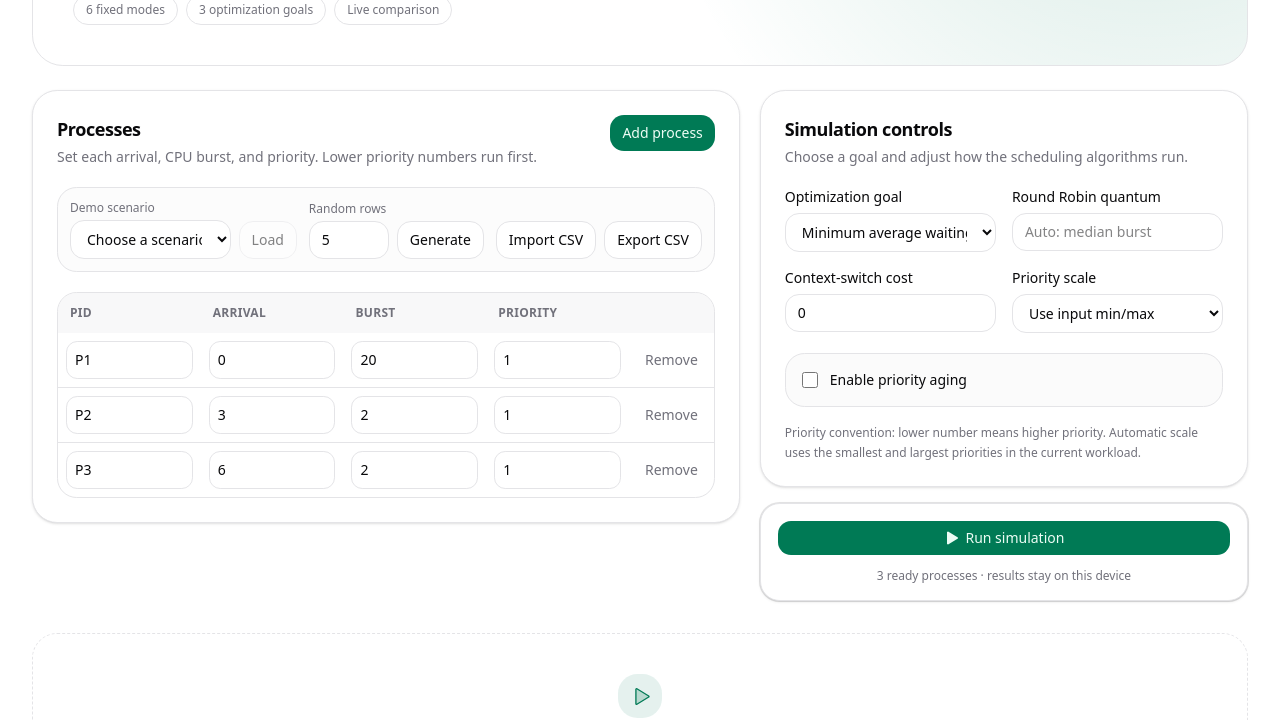
Test: simulator workflow › accepts manual process edits and runs the comparison
(page scrolled)
Replace the text in the number field named "Burst for row 1" with "10" at [415, 360], box [351,341,478,379]
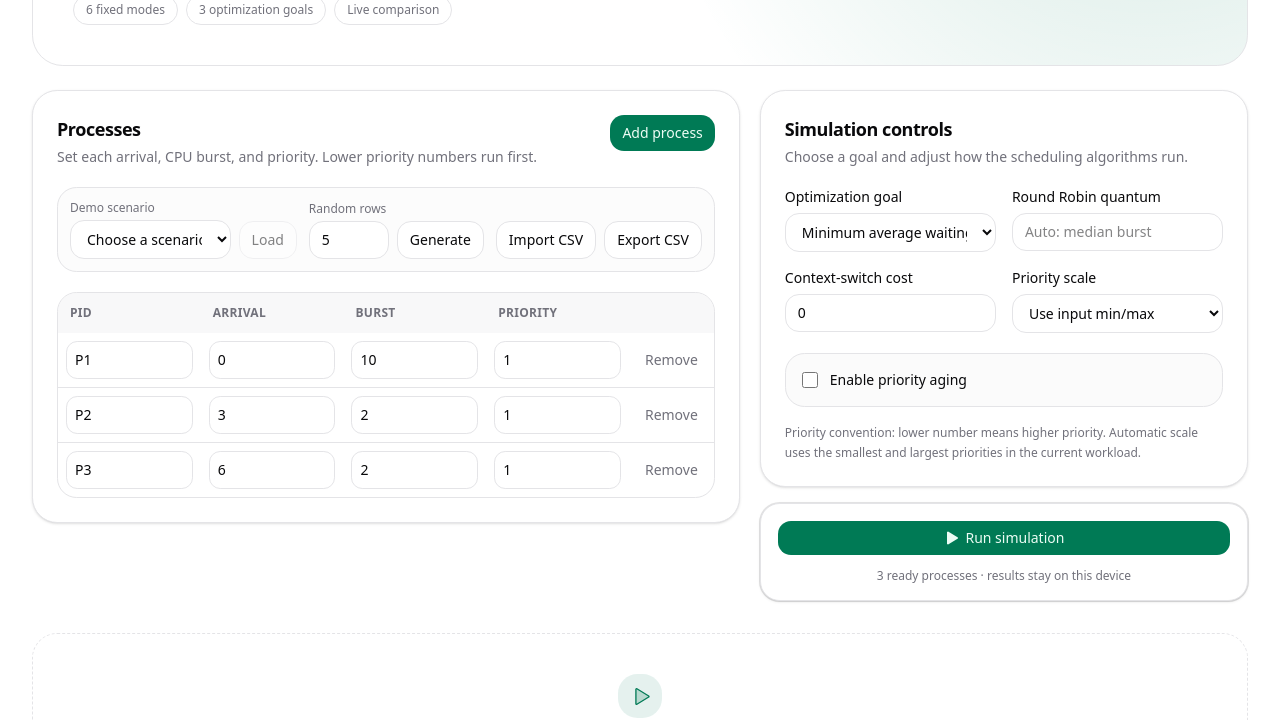
Replace the text in the number field named "Arrival for row 2" with "0" at [272, 415], box [209,396,335,434]
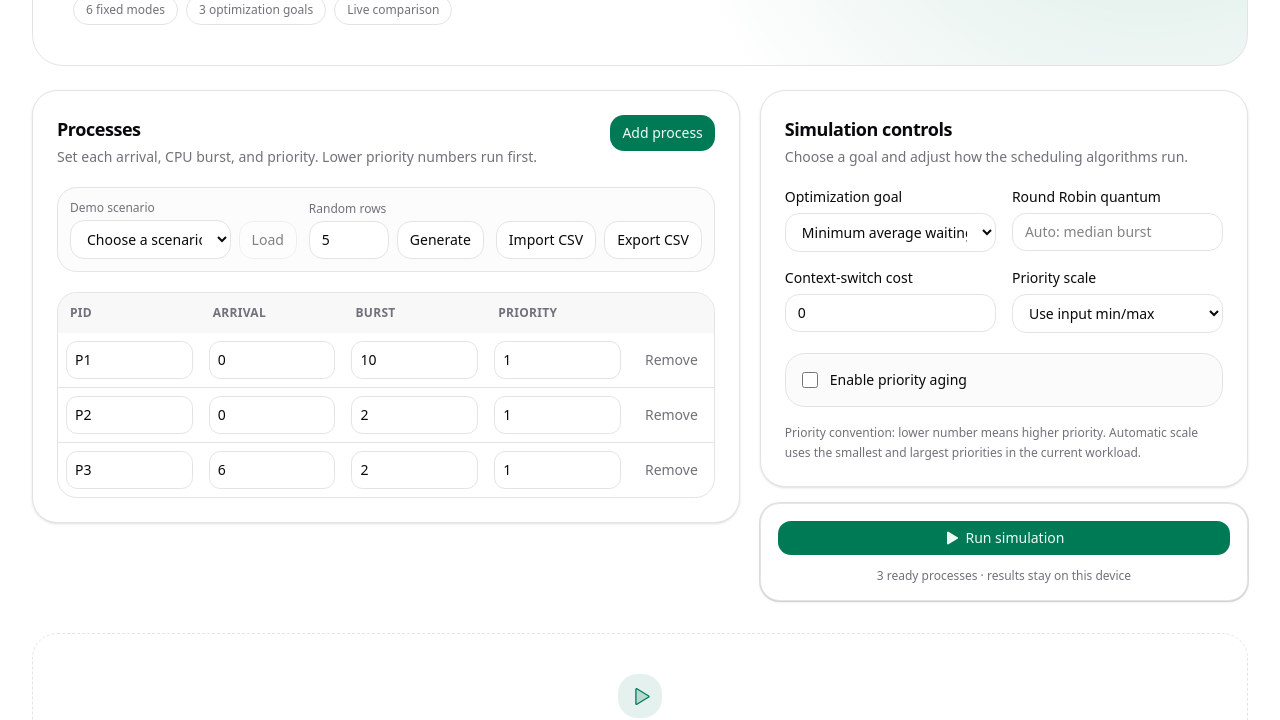
Replace the text in the number field named "Arrival for row 3" with "0" at [272, 470], box [209,451,335,489]
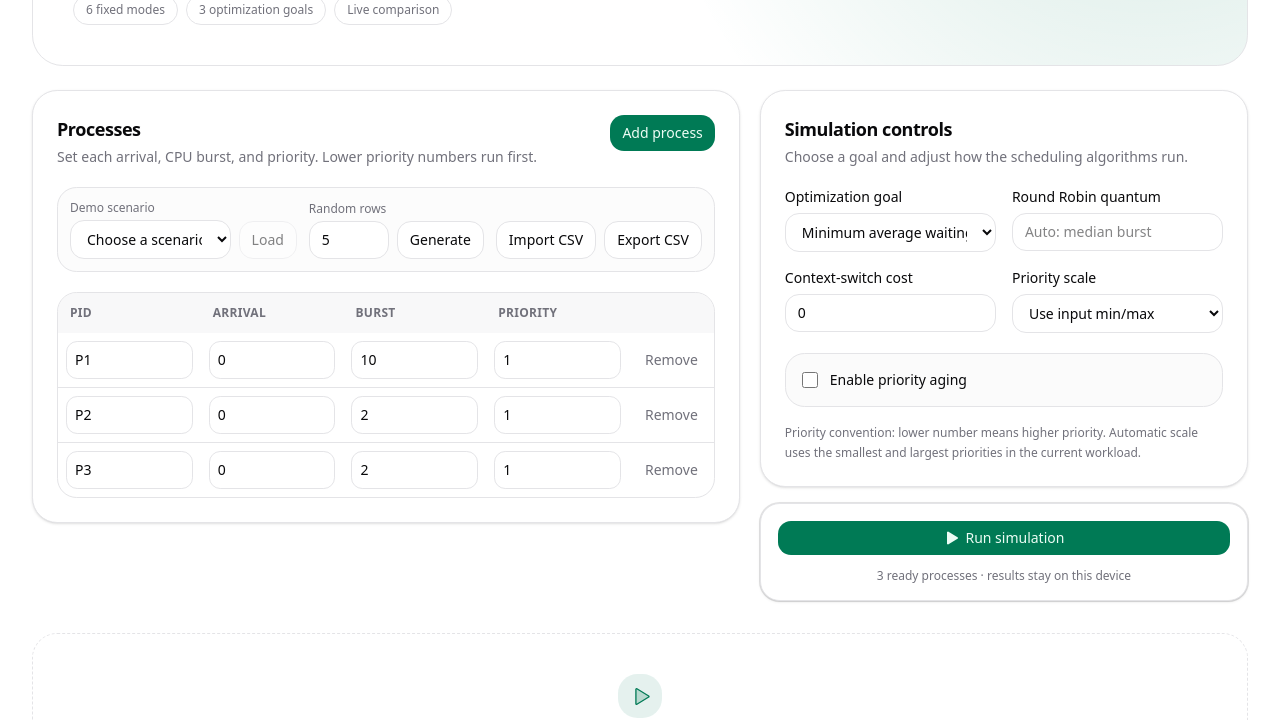
Click the button "Add process".
click(663, 133)  # box [610,115,715,151]
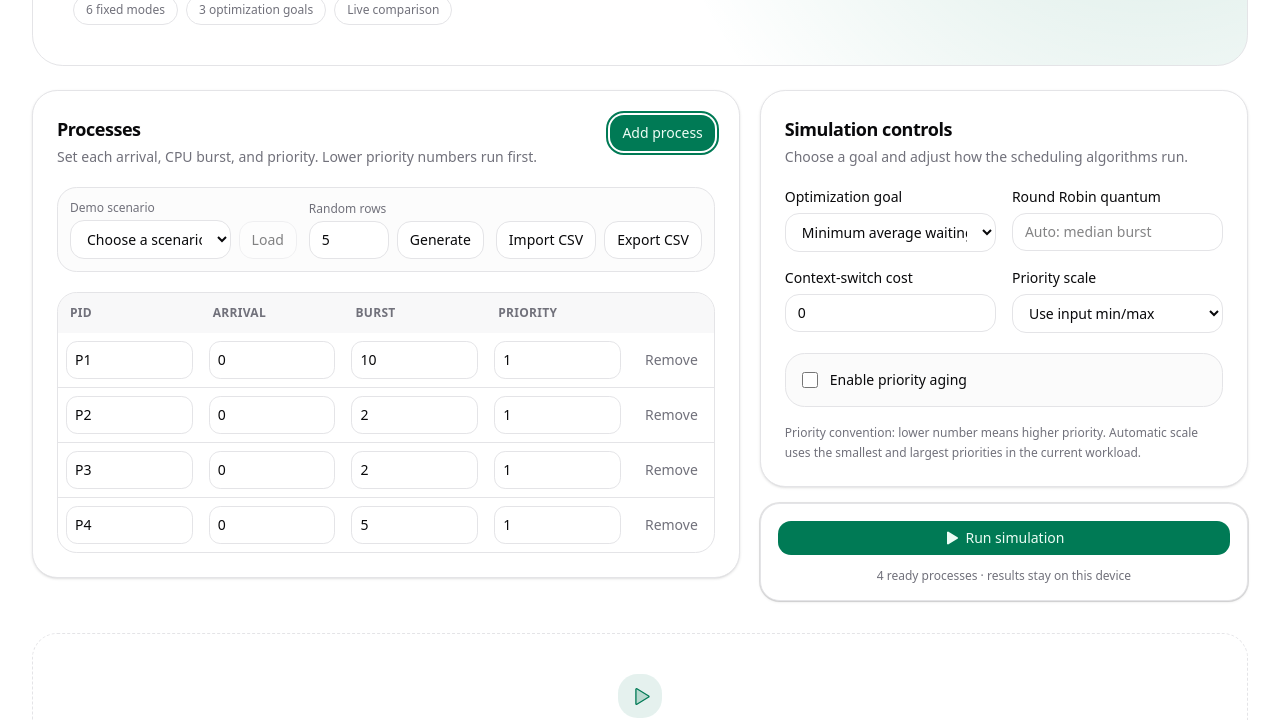
Replace the text in the number field named "Burst for row 4" with "1" at [415, 525], box [351,506,478,544]
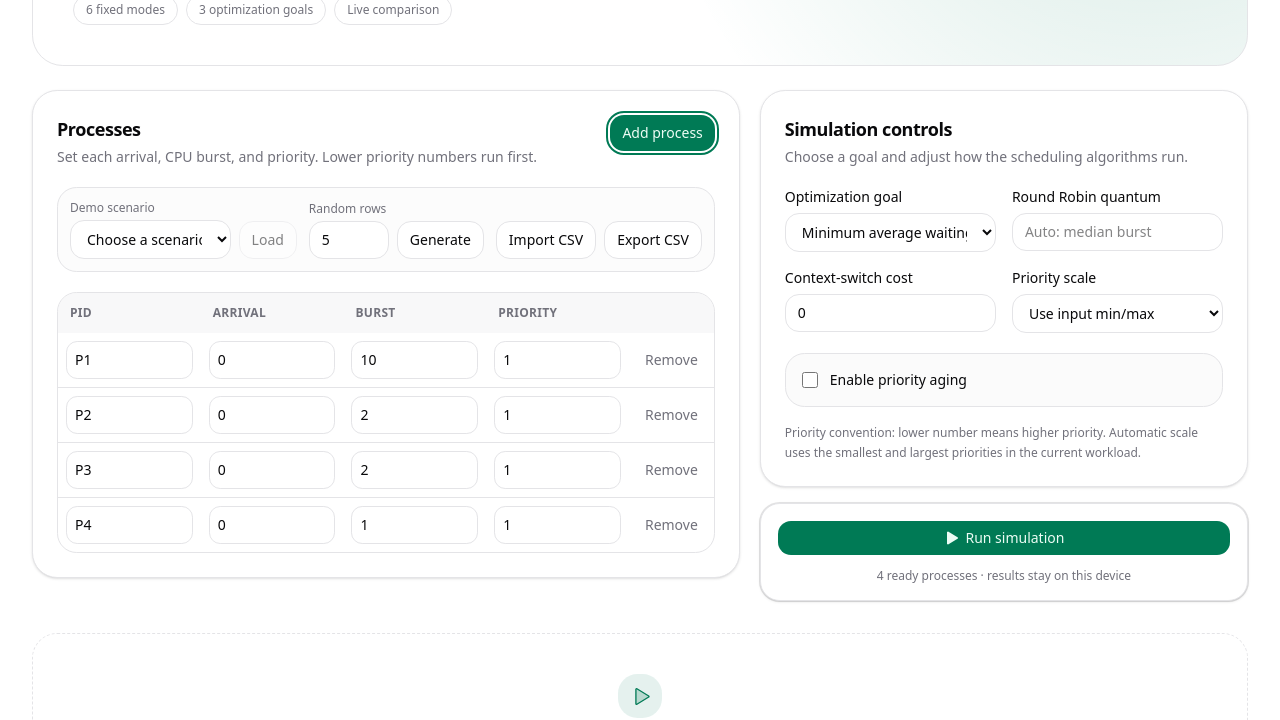
Click the button "Run simulation".
click(1004, 538)  # box [777,520,1231,556]
(page scrolled)
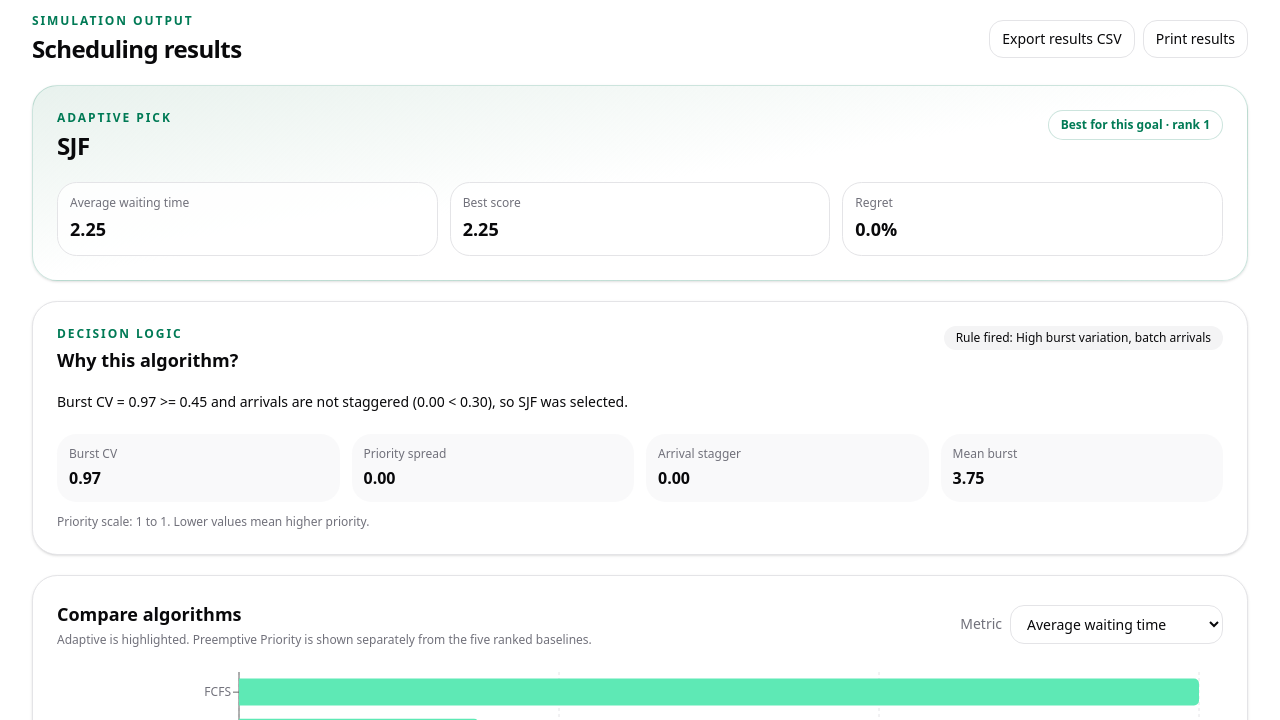
Now the heading "SJF" is shown, box [57,129,90,162]
Now the text "Rule fired: High burst variation, batch arrivals" is shown, box [944,326,1223,350]
Now the heading "Compare algorithms" is shown, box [57,602,242,626]
